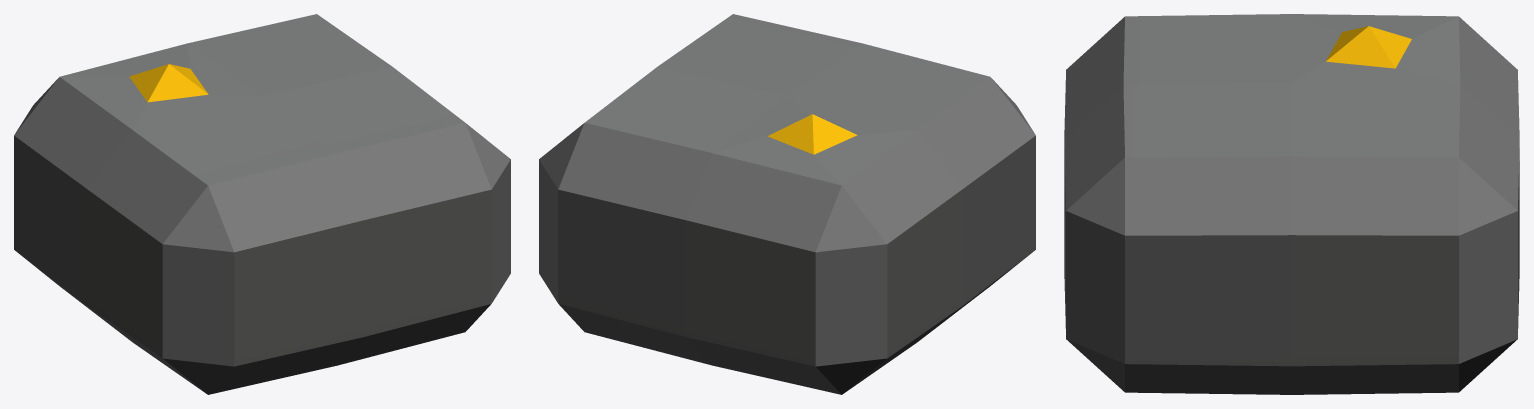
Rendered from m_kub_ore_floorBrickMini.FBX.
The picture shows the model from 3 angles, left to right: view 1: azimuth 30°, elevation 25°; view 2: azimuth 150°, elevation 25°; view 3: azimuth 270°, elevation 25°; orthographic projection. The views are drawn at different scales.
Parts seen in each view (by area): view 1: m_kub_ore_floorBrickMini; view 2: m_kub_ore_floorBrickMini; view 3: m_kub_ore_floorBrickMini.
Part boxes in pixels (x1,y1,x2,y2): m_kub_ore_floorBrickMini: (14,14,510,394); m_kub_ore_floorBrickMini: (539,14,1035,394); m_kub_ore_floorBrickMini: (1064,14,1519,394).
Size of the model in its own units: 1.18 by 0.7688 by 1.18.
